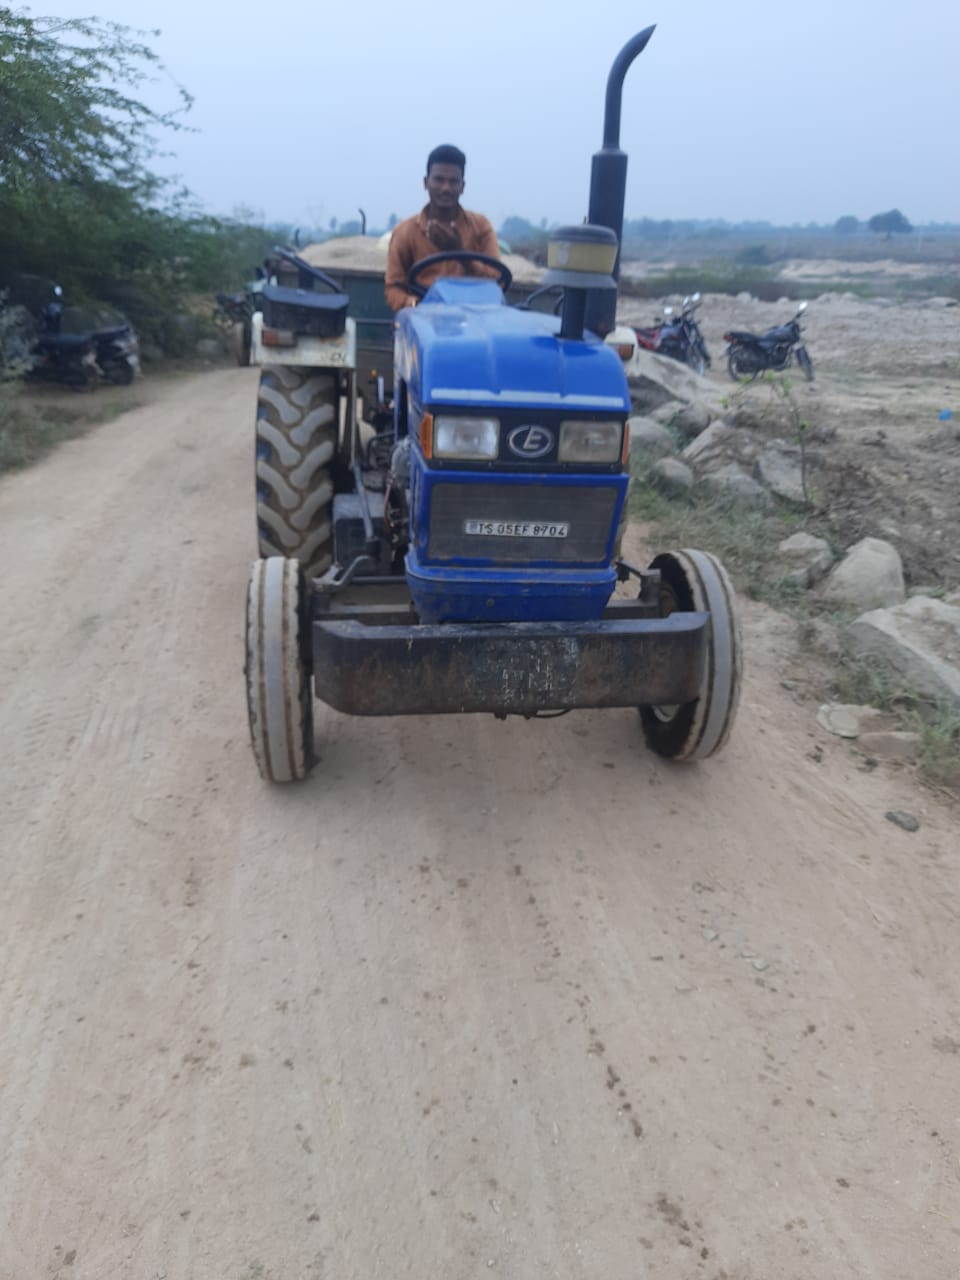num_plate: (462, 514, 572, 541)
